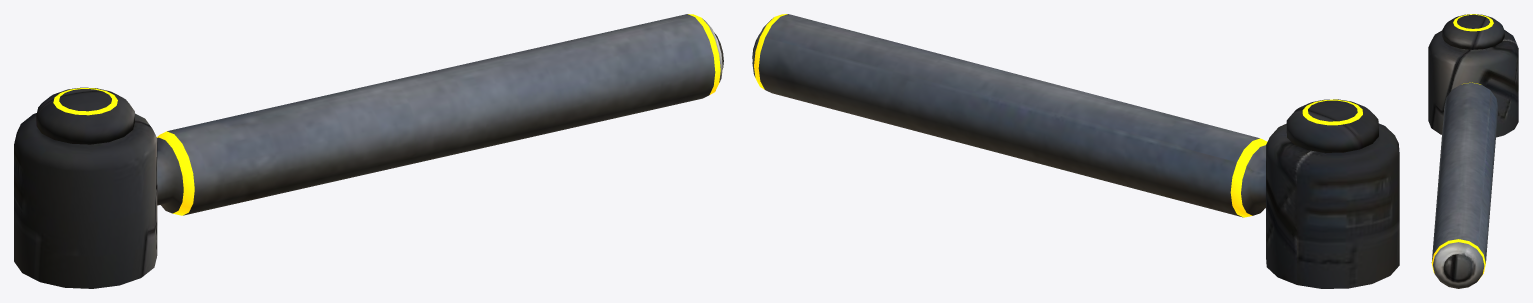
File: floor.02.machine7.gltf
The picture shows the model from 3 angles, left to right: view 1: azimuth 30°, elevation 25°; view 2: azimuth 150°, elevation 25°; view 3: azimuth 270°, elevation 25°; orthographic projection. The views are drawn at different scales.
Visible parts, largest first — view 1: floor.02.machine.08; view 2: floor.02.machine.08; view 3: floor.02.machine.08.
Part boxes in pixels (x1,y1,x2,y2): floor.02.machine.08: (14, 14, 723, 288); floor.02.machine.08: (752, 14, 1399, 288); floor.02.machine.08: (1428, 14, 1518, 288).
Size of what is drawn, in the model's own units: 11.64 by 2.63 by 2.13.
2 materials, 1 textured.
